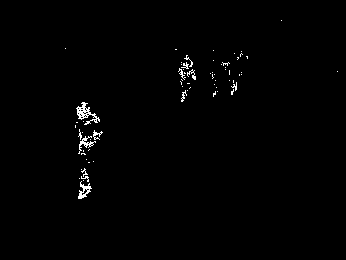person: (76, 101, 103, 201), (177, 51, 195, 101)
